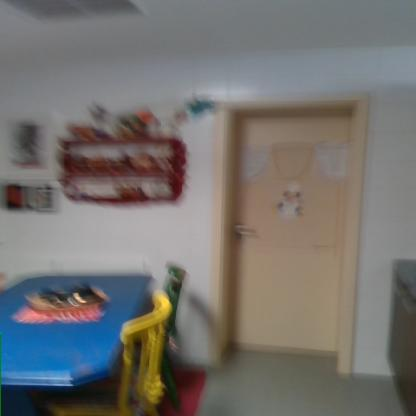closed: (204, 87, 385, 380)
